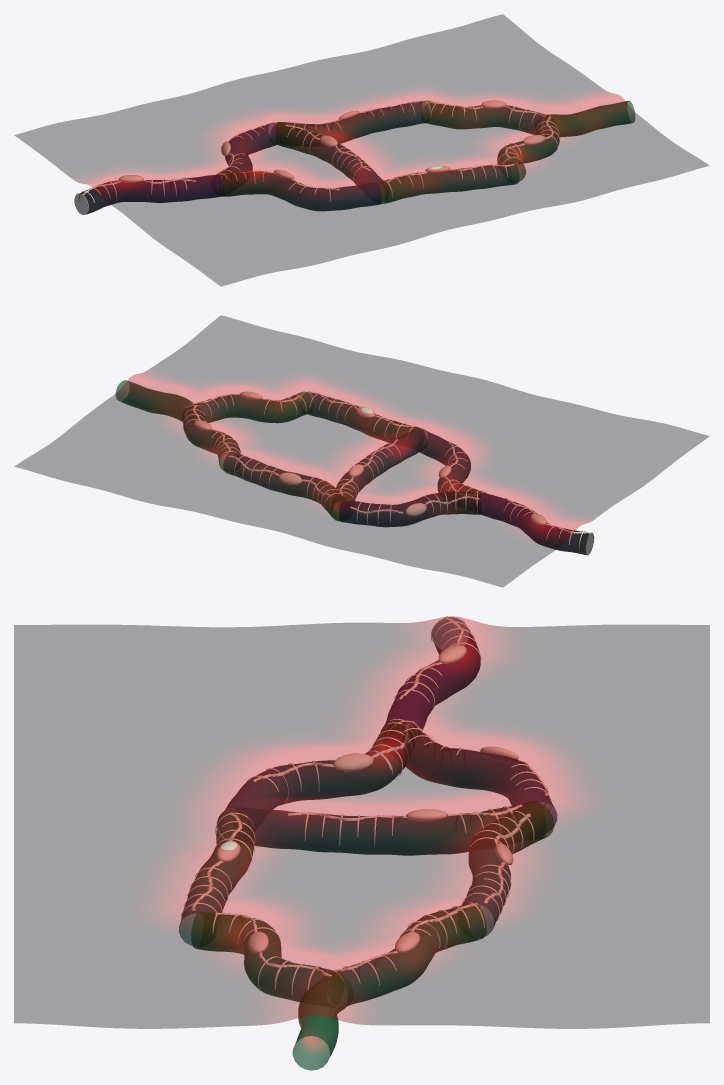
File: retina.glb
The picture shows the model from 3 angles, top to bottom: view 1: azimuth 30°, elevation 25°; view 2: azimuth 150°, elevation 25°; view 3: azimuth 270°, elevation 25°; orthographic projection. The views are drawn at different scales.
Parts seen in each view (by area): view 1: ilm, vessel, pericyte; view 2: ilm, vessel, pericyte; view 3: ilm, vessel, pericyte.
Part boxes in pixels (<box>): ilm: <box>14,14,709,286</box>; vessel: <box>74,100,634,214</box>; pericyte: <box>76,100,559,210</box>; ilm: <box>14,315,709,587</box>; vessel: <box>115,380,593,555</box>; pericyte: <box>183,391,594,550</box>; ilm: <box>14,616,709,1028</box>; vessel: <box>179,617,556,1070</box>; pericyte: <box>181,616,551,994</box>.
Size of the model in its own units: 157 by 8.66 by 110.
